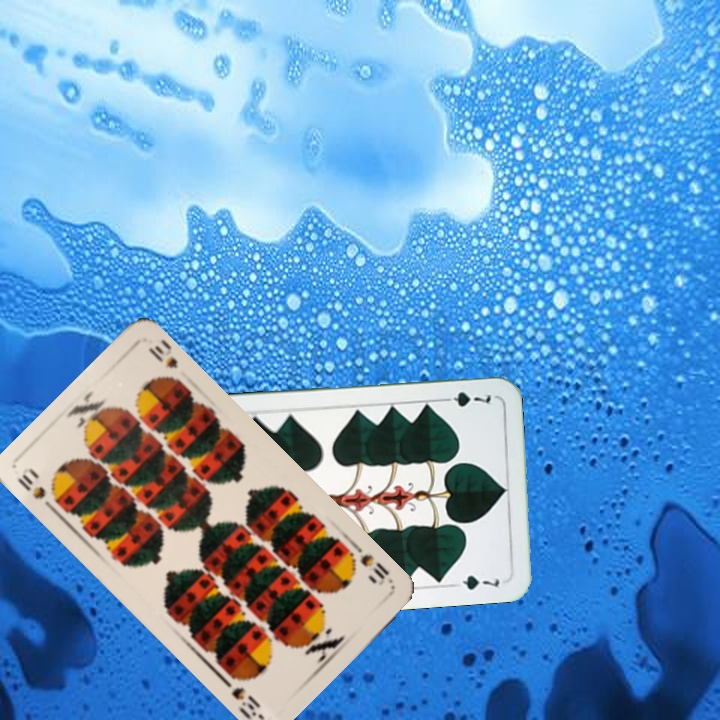G7: (436, 387, 494, 410)
S10: (13, 466, 59, 515), (356, 550, 392, 582)
